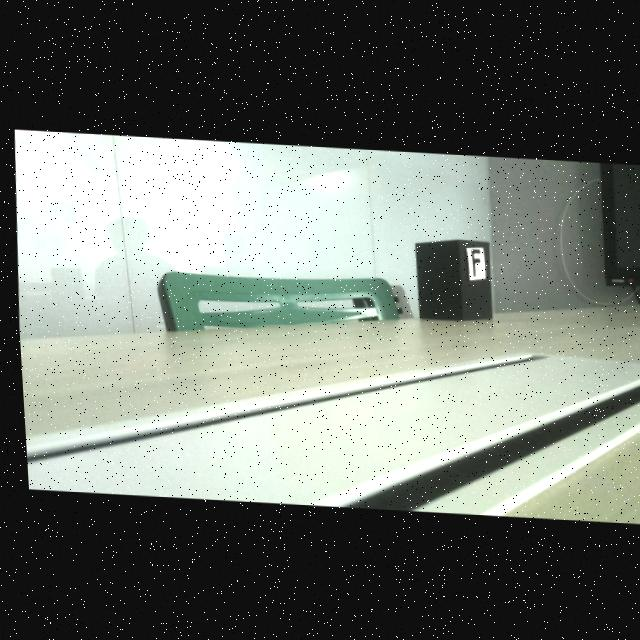F: (468, 247, 477, 273)
